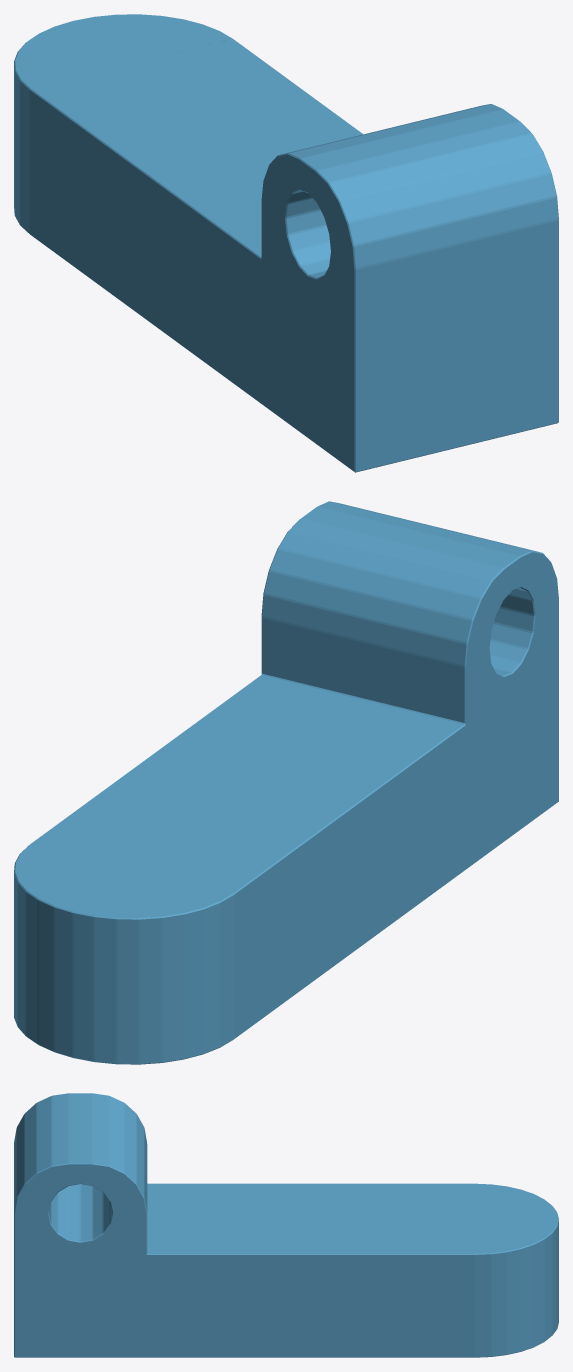
File: VIS_ShoulderLink1.dae
3 renders of one model, top to bottom at view 1: azimuth 30°, elevation 25°; view 2: azimuth 150°, elevation 25°; view 3: azimuth 270°, elevation 25°, orthographic. The views are drawn at different scales.
Parts seen in each view (by area): view 1: VIS_ShoulderLink1; view 2: VIS_ShoulderLink1; view 3: VIS_ShoulderLink1.
Part boxes in pixels (x1=…): VIS_ShoulderLink1: x1=14, y1=14, x2=558, y2=472; VIS_ShoulderLink1: x1=14, y1=501, x2=558, y2=1064; VIS_ShoulderLink1: x1=14, y1=1093, x2=558, y2=1357.
Bounding box in the file's own units: 0.0625 × 0.2034 × 0.08.
